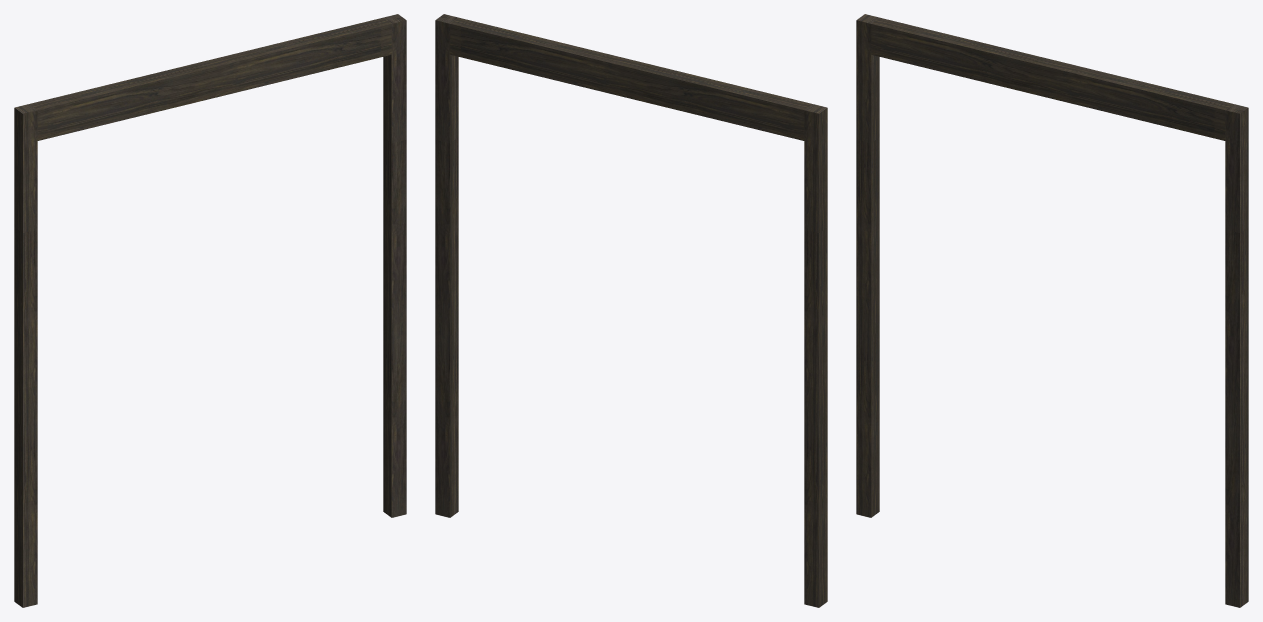
Rendered from es-flame_h2400-w1800_blackebony.fbx.
The picture shows the model from 3 angles, left to right: view 1: azimuth 30°, elevation 25°; view 2: azimuth 150°, elevation 25°; view 3: azimuth 330°, elevation 25°; orthographic projection.
Visible parts, largest first — view 1: es-flame_h2400-w1800_blackebony; view 2: es-flame_h2400-w1800_blackebony; view 3: es-flame_h2400-w1800_blackebony.
Part boxes in pixels (bbox=[...]): es-flame_h2400-w1800_blackebony: bbox=[14, 14, 406, 607]; es-flame_h2400-w1800_blackebony: bbox=[435, 14, 827, 607]; es-flame_h2400-w1800_blackebony: bbox=[856, 14, 1248, 607].
Size of the model in its own units: 195 by 240 by 7.5.
Materials: 1 (1 with a texture image).
